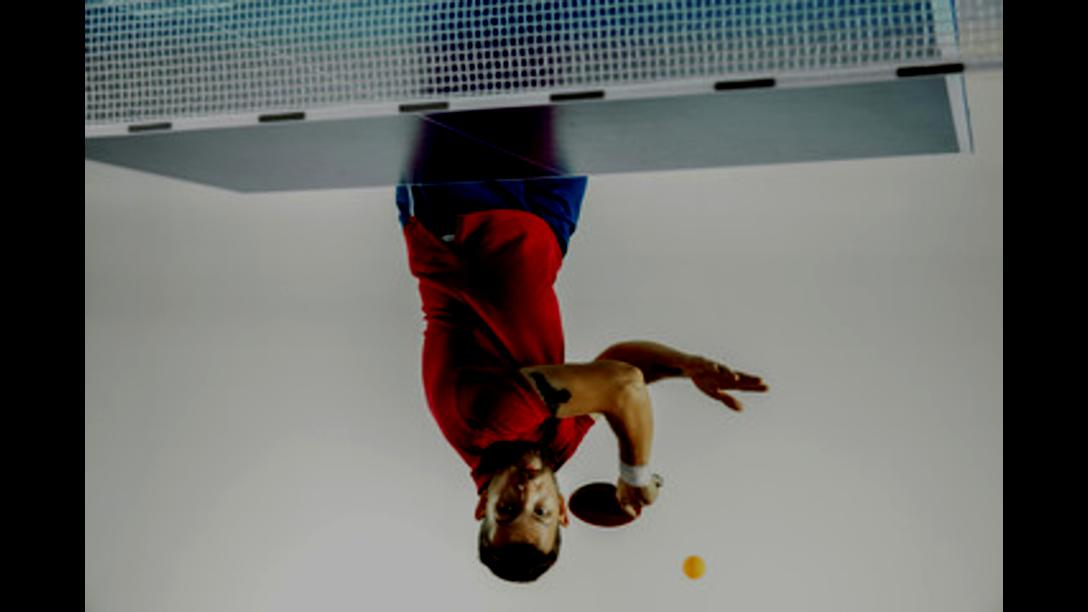Table-Tennis-Ball: (682, 552, 708, 584)
